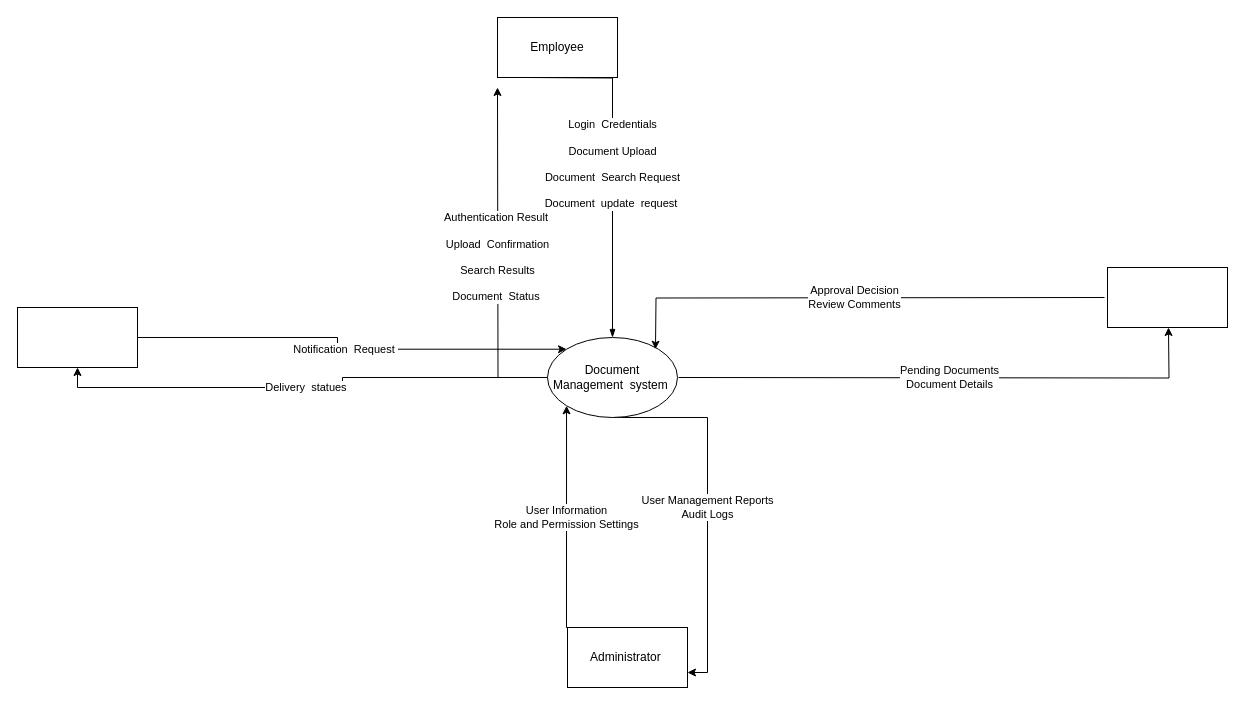
The diagram is 1245 pixels wide and 705 high, and some of its shapes have lost their labels. The centre of each missing label's shape, as x and y in pixels:
Manager: the point at 1167,297
Notification Service: the point at 77,337
